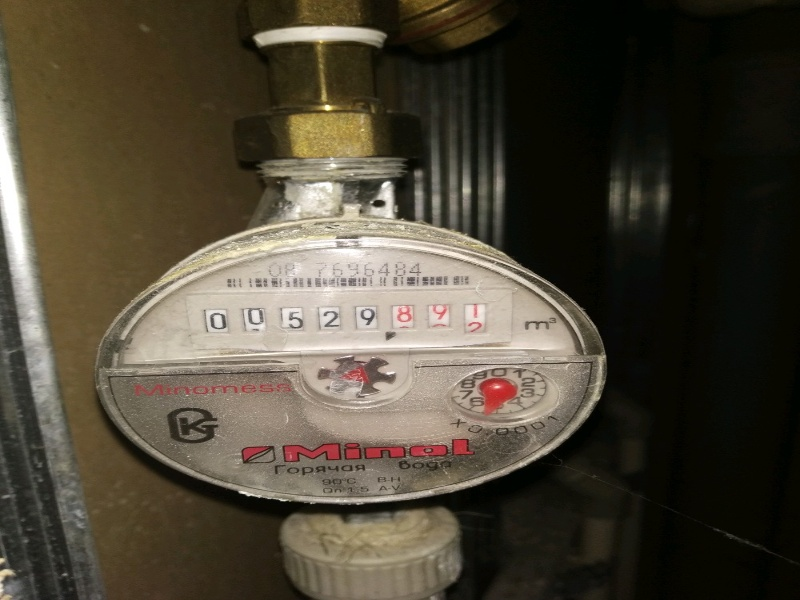dial: (186, 300, 503, 344)
